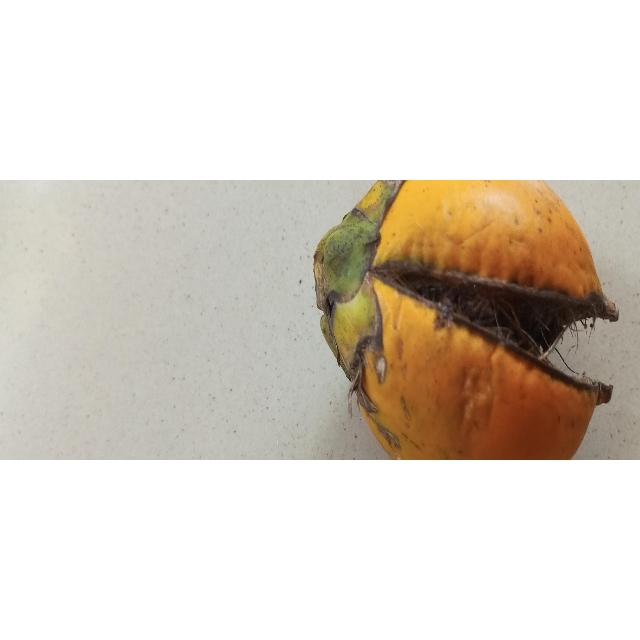damaged: (313, 180, 619, 461)
